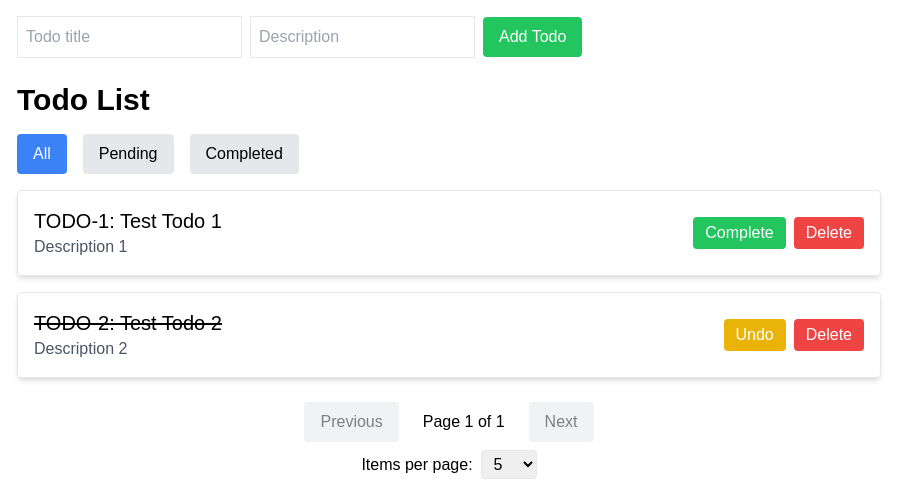
Test: TodoList › dismisses flash message when clicked
Expected: the heading "TODO-1: Test Todo 1" is shown, [34, 207, 222, 235]
// Click delete button and wait for flash message
Click the button "Delete" in the row of "Test Todo 1" at x=829, y=233, box [794, 217, 864, 249]
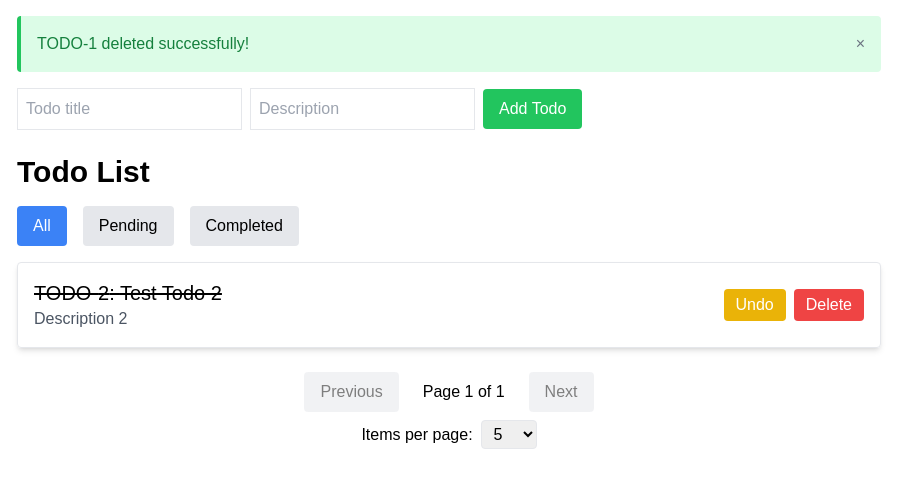
Now the text "TODO-1 deleted successfully!" is shown, box [37, 32, 249, 56]
// Click dismiss button
Click the button named "Dismiss" at x=860, y=44, box [856, 32, 865, 56]
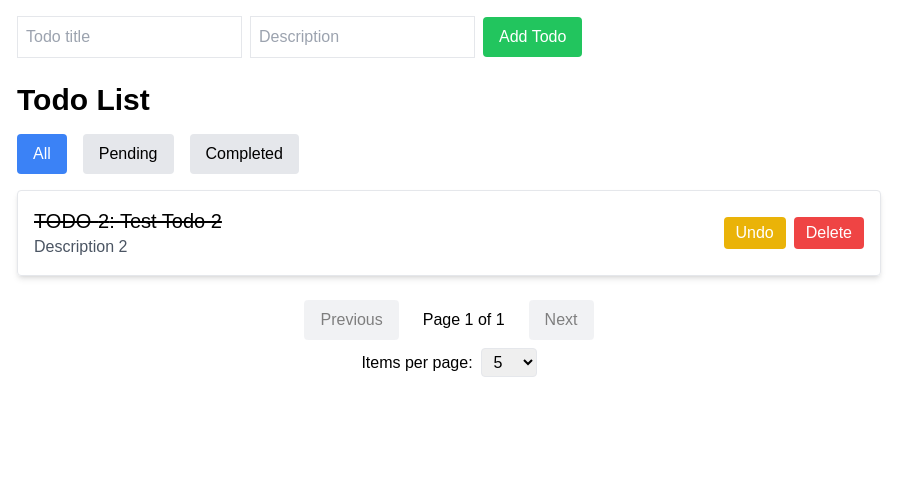
Now the text "TODO-1 deleted successfully!" is gone
